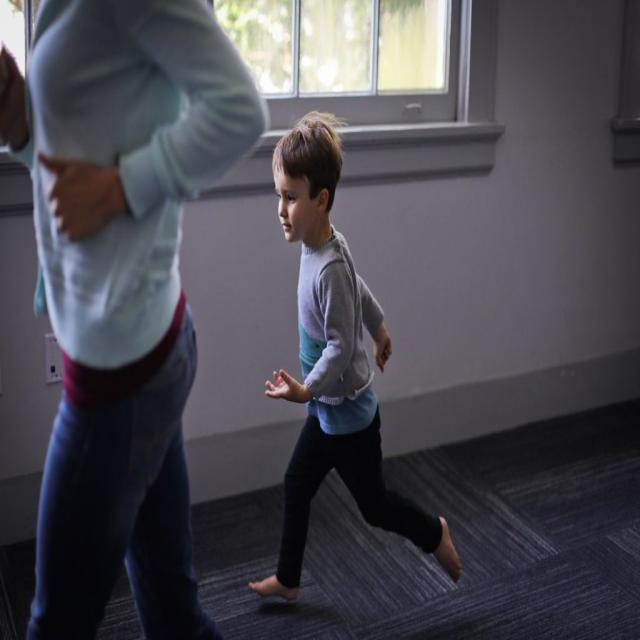Person: (0, 0, 268, 640), (248, 114, 459, 599)
